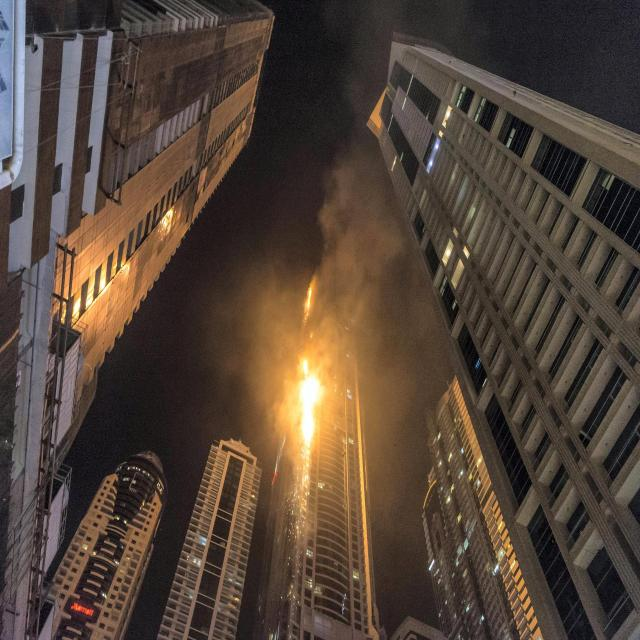fire: (297, 360, 325, 433)
